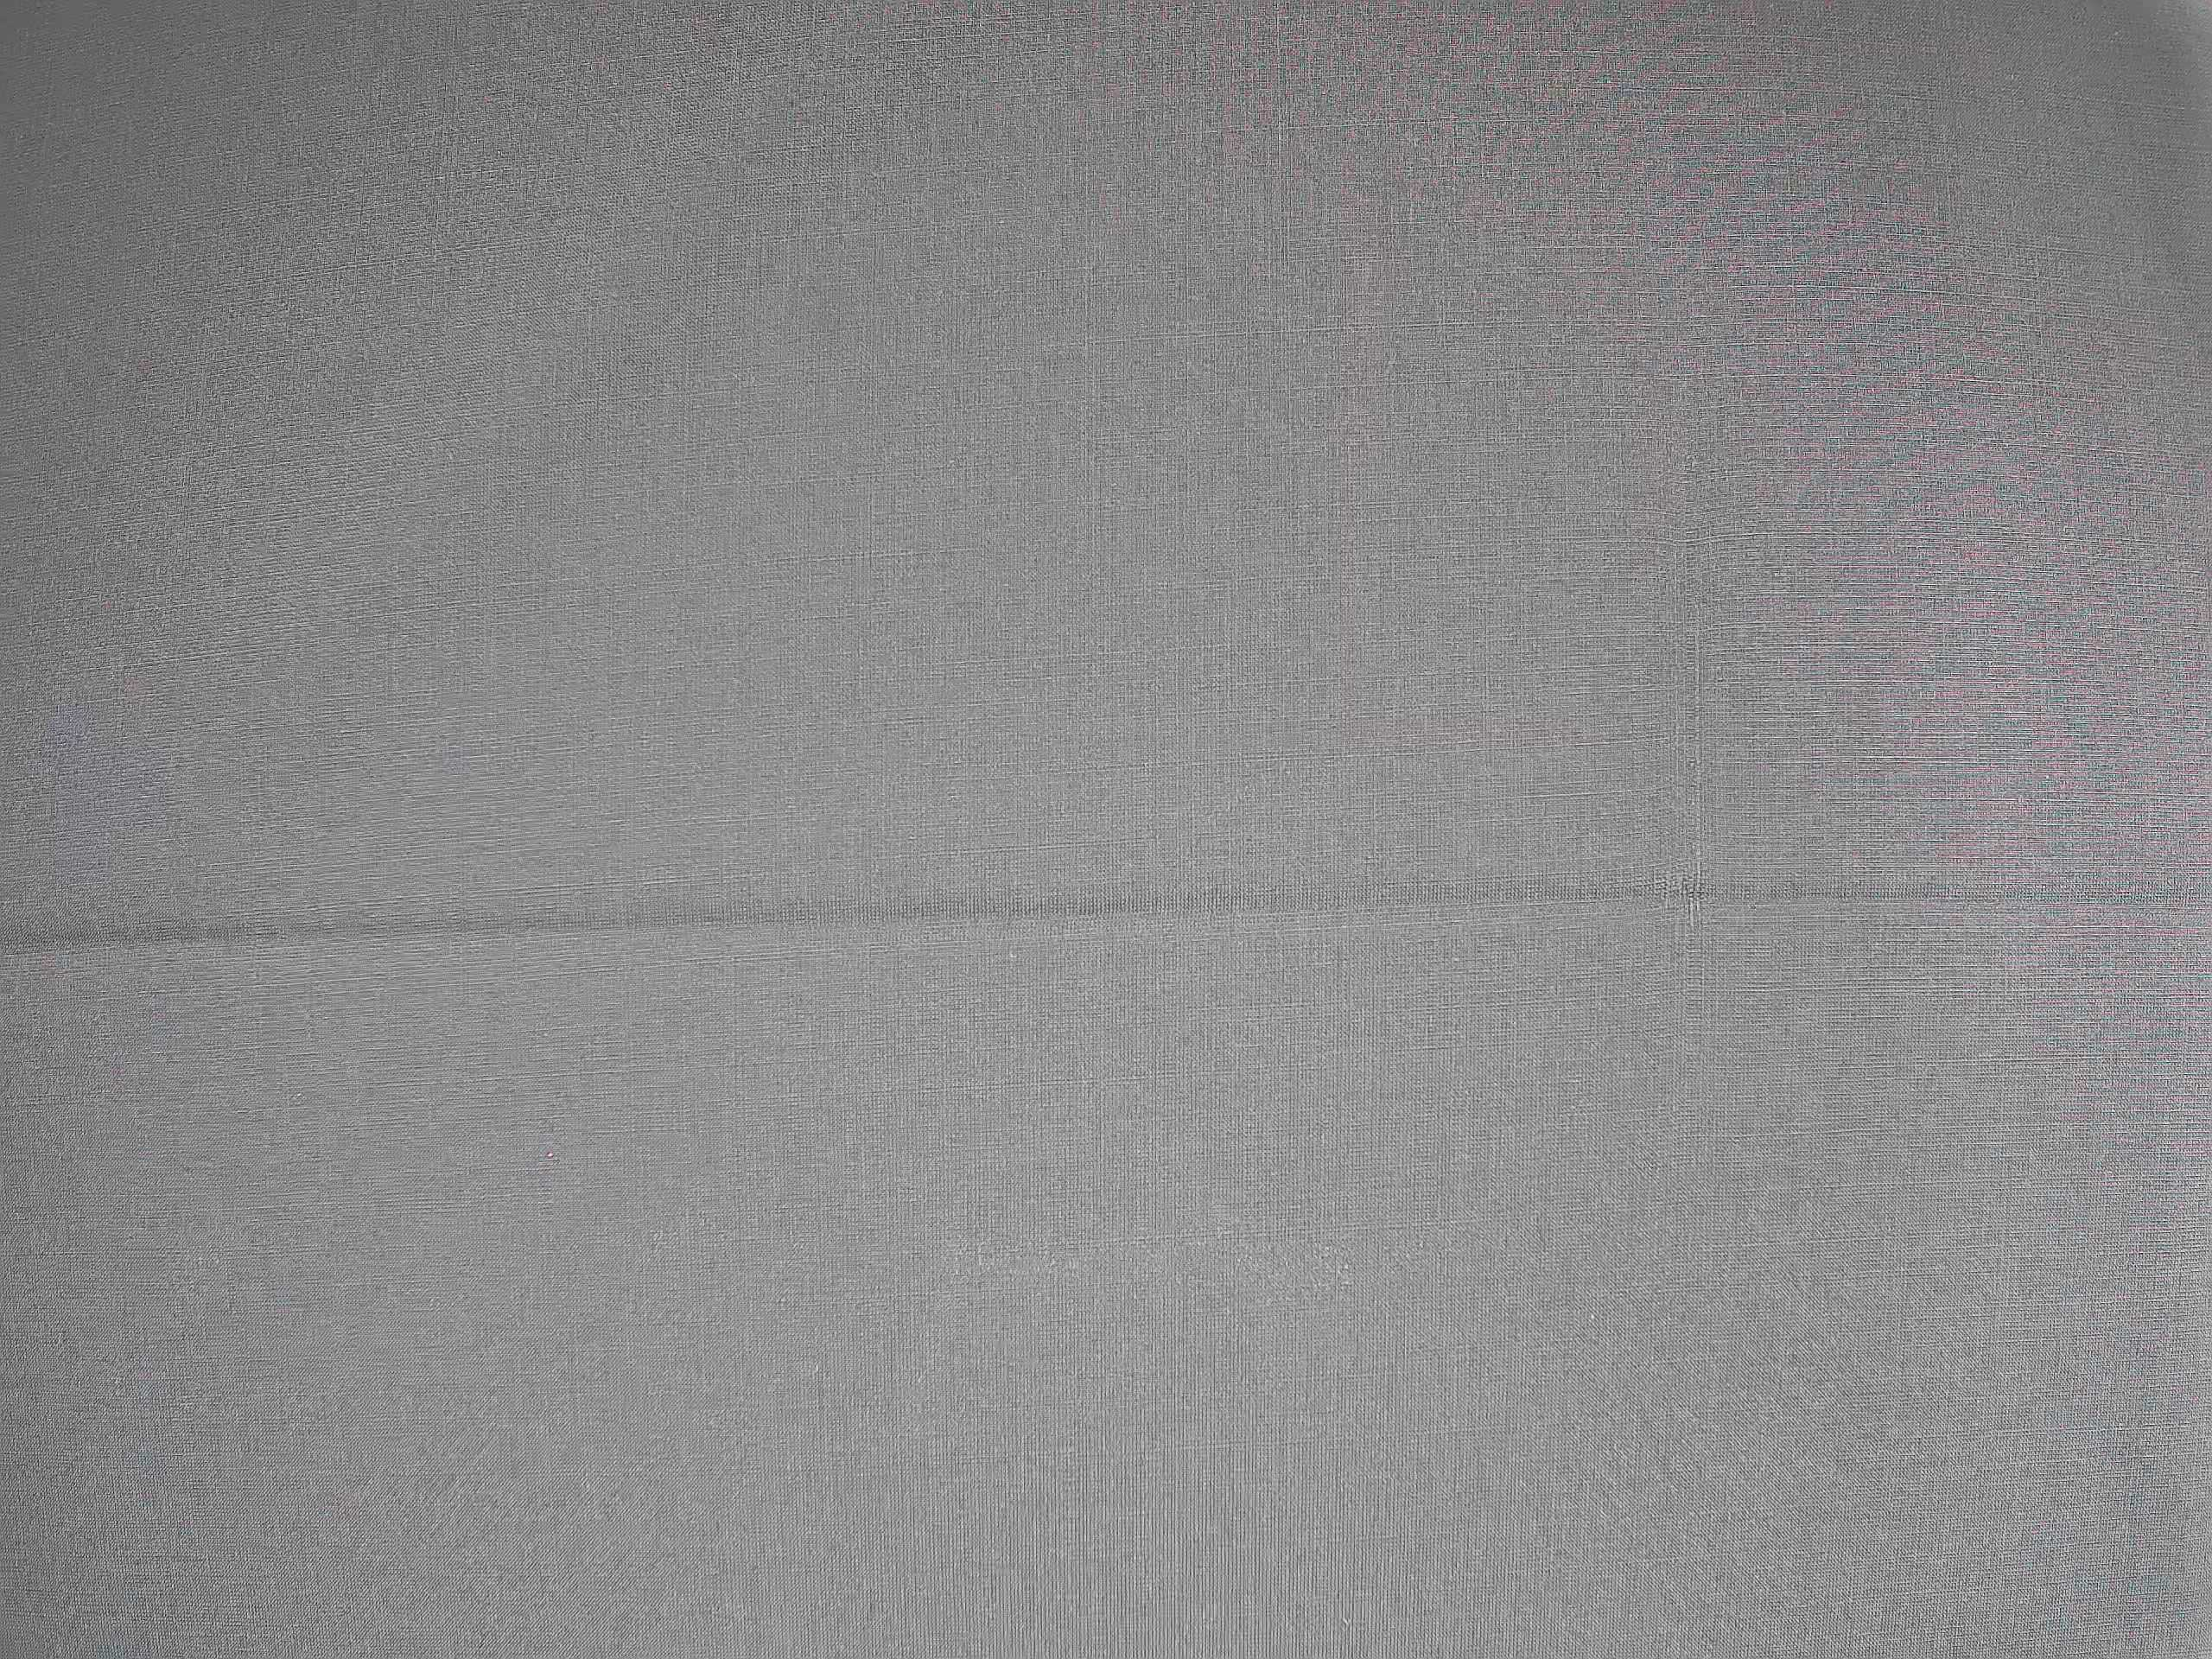hanging-warp: (1670, 547, 1714, 948)
